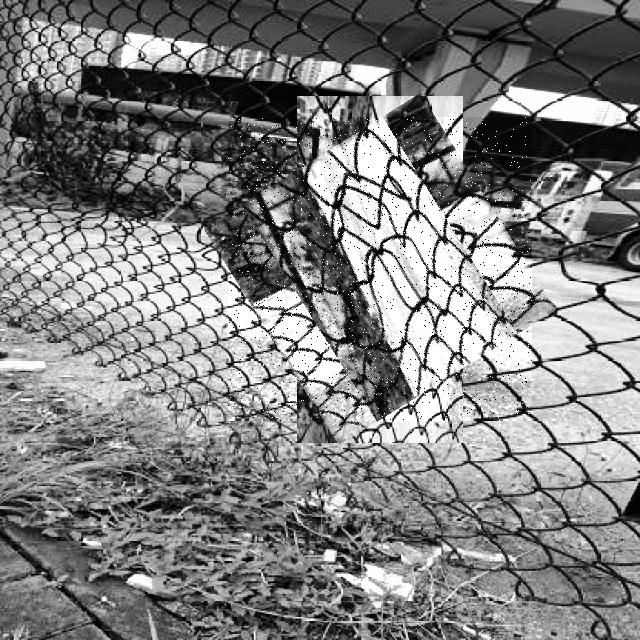anomaly-fence: (228, 117, 532, 421)
